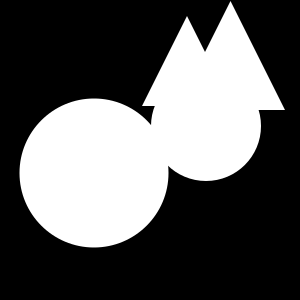rectangle: (20, 99, 168, 248), (151, 71, 261, 181)
triangle: (176, 1, 285, 110), (142, 16, 232, 106)
